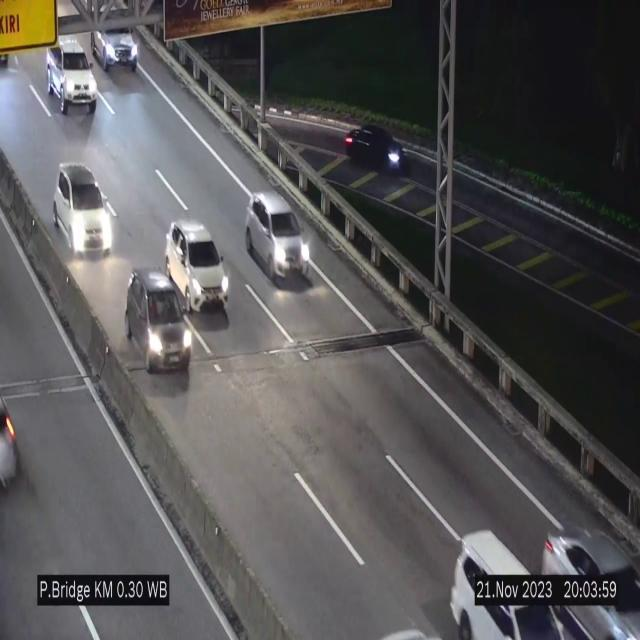Car: (441, 508, 564, 640), (533, 499, 640, 633), (124, 266, 192, 381), (49, 162, 113, 258), (166, 219, 228, 313), (340, 104, 412, 181), (246, 192, 308, 280), (47, 36, 97, 116), (90, 27, 138, 73)
